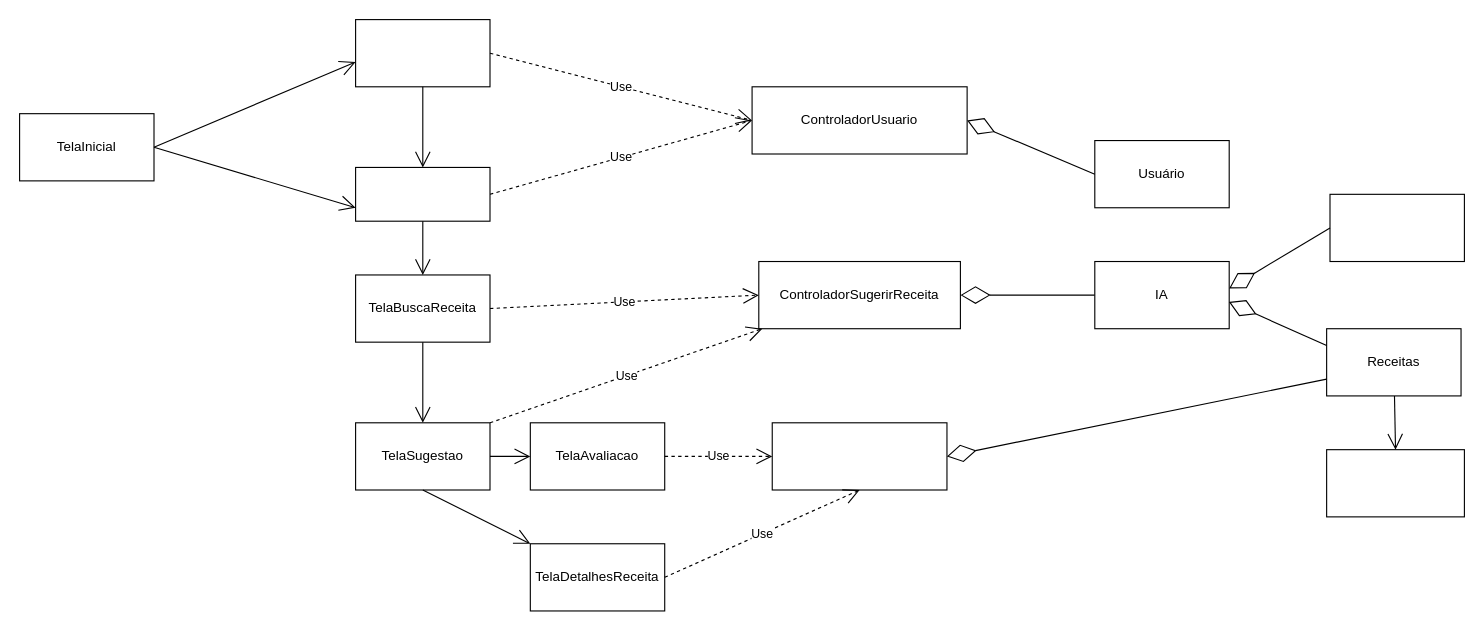
The diagram is 1484 pixels wide and 631 high, and some of its shapes have lost their labels. The shapes that lost their labels are listed below. From the top down, each one's box as (x1, y1, x2, y2) in pixels, then its label:
(354, 18, 490, 87): TelaCadastroUsuario
(354, 166, 490, 221): TelaPerfilUsuario
(1329, 193, 1464, 262): Ingrediente
(771, 422, 947, 490): ControladorReceitas
(1326, 449, 1464, 517): Avaliação
